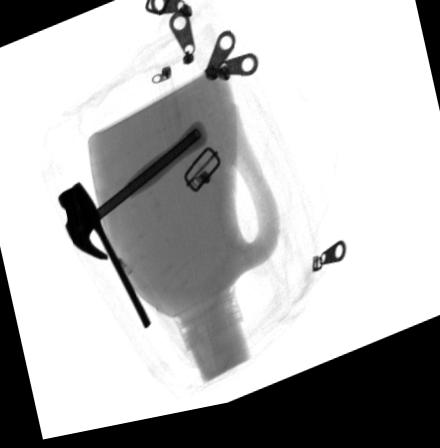Hammer: (57, 127, 208, 263)
Wrench: (65, 182, 152, 336)
